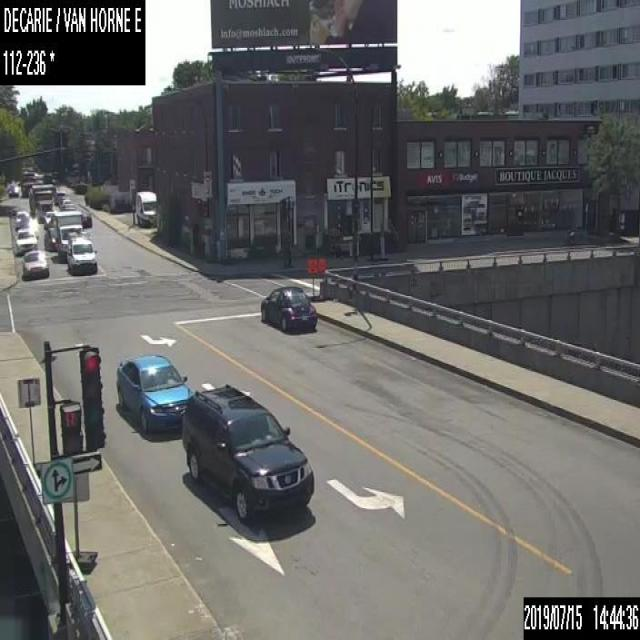construction: (59, 466, 98, 576), (15, 375, 42, 477), (316, 257, 327, 301), (306, 258, 316, 302)
vehicle: (179, 384, 313, 520), (116, 355, 193, 433), (258, 283, 316, 333), (54, 209, 82, 260), (66, 232, 96, 274), (28, 183, 52, 222), (21, 250, 48, 280), (135, 190, 156, 227), (12, 227, 38, 254), (20, 170, 36, 196), (43, 227, 57, 250), (14, 210, 28, 228), (42, 210, 55, 228), (18, 216, 33, 228), (59, 198, 73, 210), (53, 189, 65, 203), (82, 210, 91, 228), (6, 183, 18, 196), (48, 214, 54, 226)
